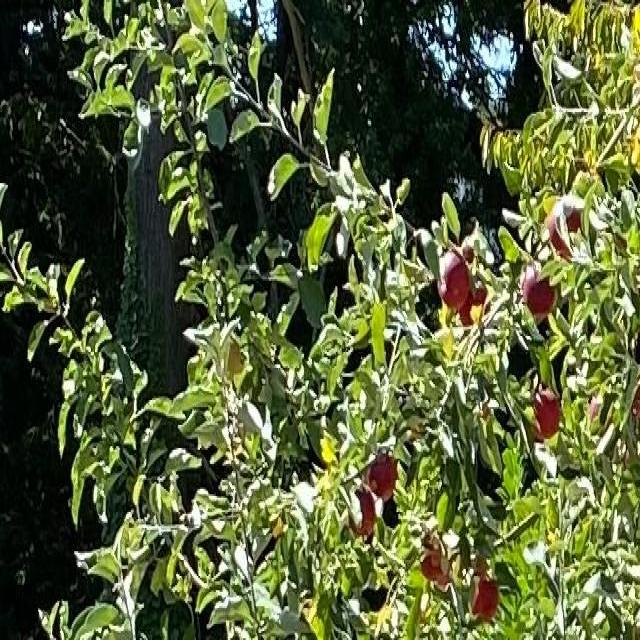Rotten Apple: (549, 198, 582, 255), (440, 249, 468, 307), (460, 277, 489, 329), (524, 266, 555, 314), (533, 386, 560, 439), (370, 454, 396, 502), (422, 537, 449, 583), (349, 487, 374, 535), (473, 572, 499, 617)
